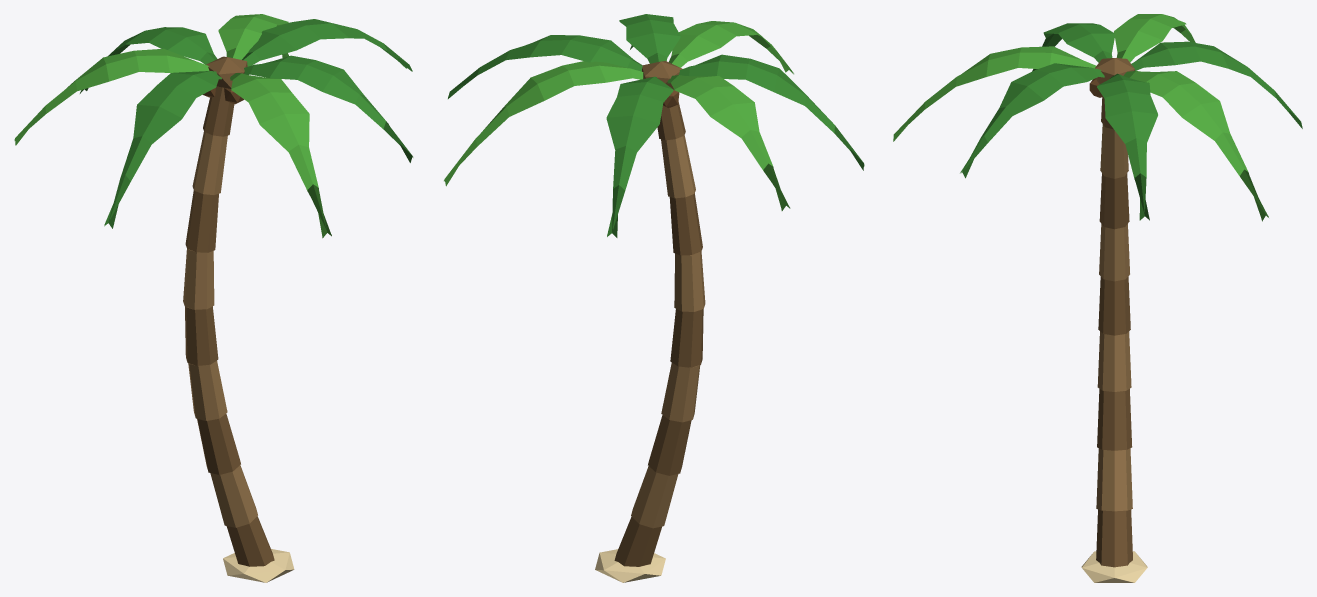
The model's file is isle_palm_v02.glb.
3 views of the same model, side by side, from view 1: azimuth 30°, elevation 25°; view 2: azimuth 150°, elevation 25°; view 3: azimuth 270°, elevation 25° (orthographic). The views are drawn at different scales.
Parts seen in each view (by area): view 1: palm_2; view 2: palm_2; view 3: palm_2.
Part boxes in pixels (box(x1,y1,x2,y2)): palm_2: box(14, 14, 413, 582); palm_2: box(444, 14, 864, 582); palm_2: box(893, 14, 1302, 582).
Bounding box in the file's own units: 4.77 × 6.54 × 4.76.
